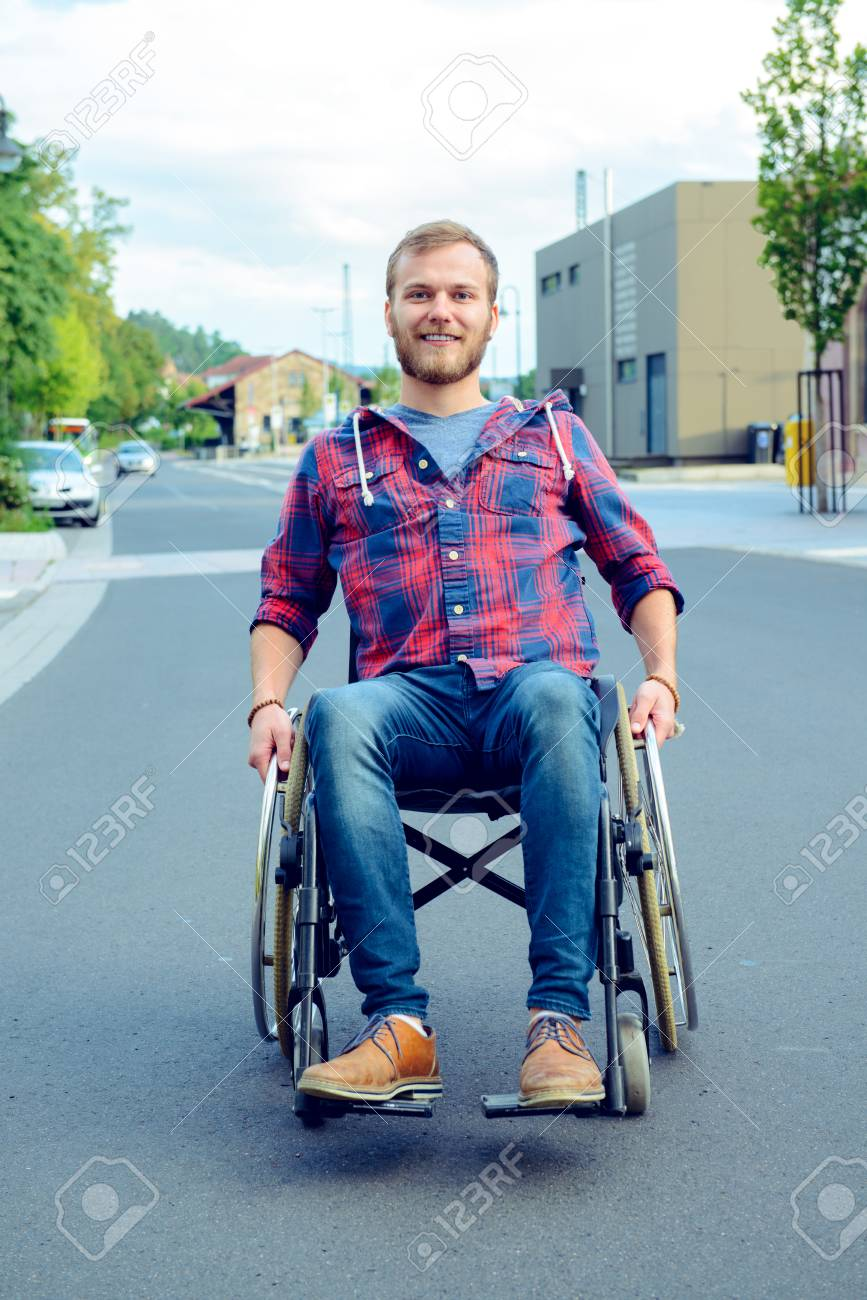person: (251, 217, 680, 678)
wheelchair: (248, 680, 683, 1128)
